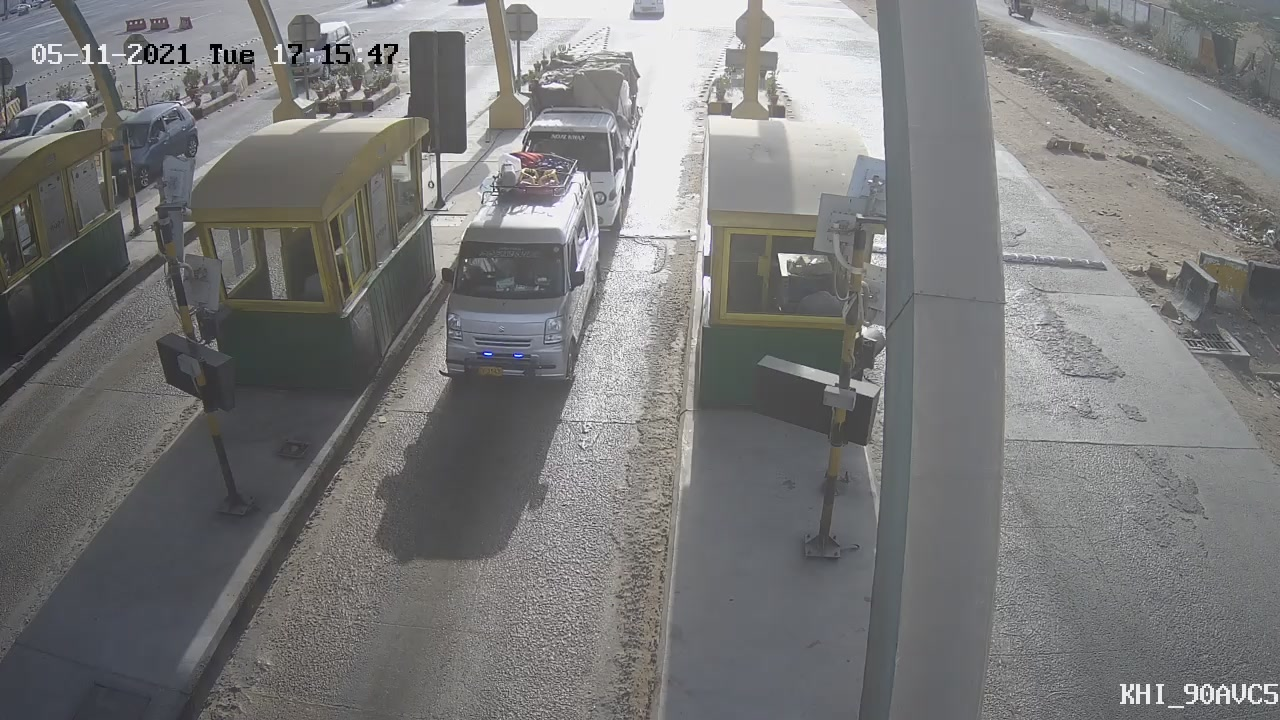F1: (416, 134, 622, 407)
